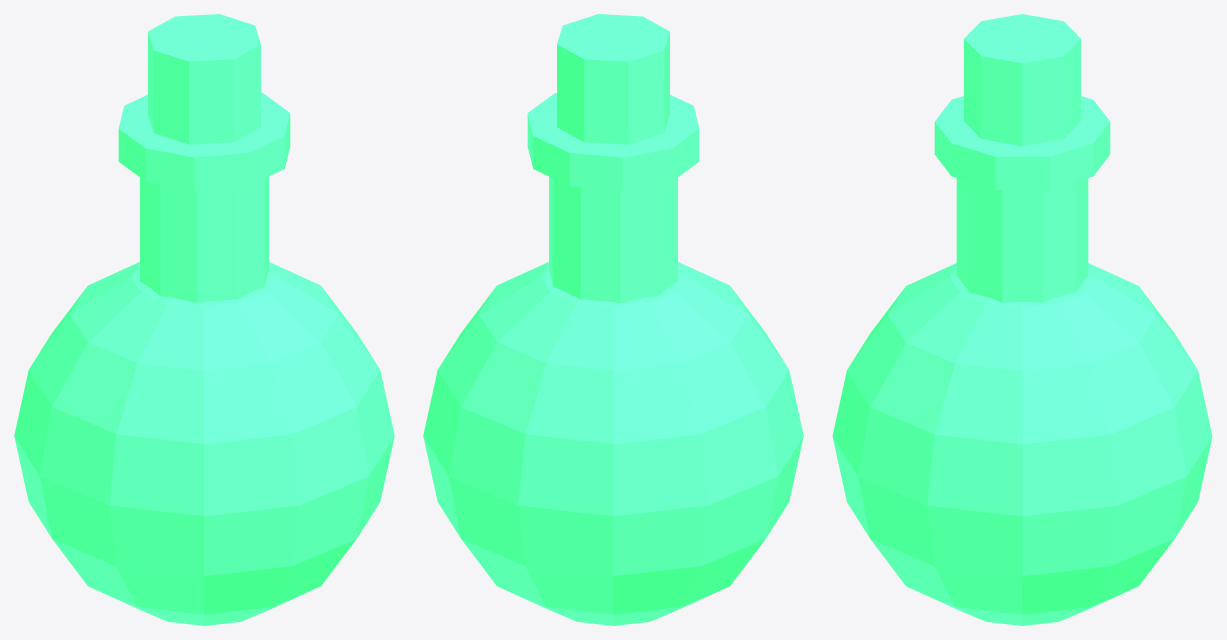
Rendered from SM_HealthPotion_01.fbx.
3 renders of one model, left to right at view 1: azimuth 30°, elevation 25°; view 2: azimuth 150°, elevation 25°; view 3: azimuth 270°, elevation 25°, orthographic.
Visible parts, largest first — view 1: SM_HealthPotion_01; view 2: SM_HealthPotion_01; view 3: SM_HealthPotion_01.
Part boxes in pixels (bbox=[...]): SM_HealthPotion_01: bbox=[14, 14, 394, 625]; SM_HealthPotion_01: bbox=[423, 14, 803, 625]; SM_HealthPotion_01: bbox=[832, 14, 1212, 625].
Size of the model in its own units: 0.26 by 0.43 by 0.26.
